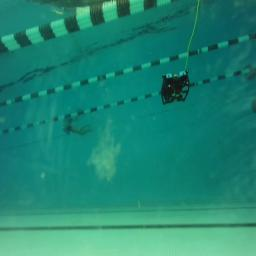front: (160, 69, 190, 105)
